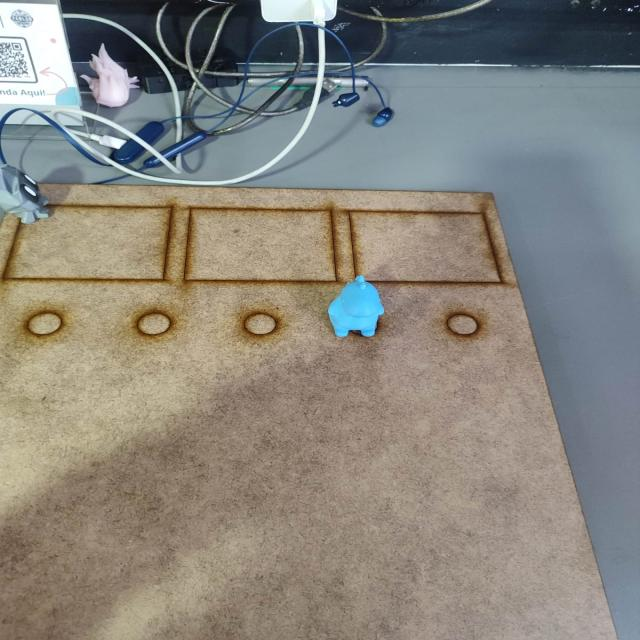DINO: (324, 267, 396, 341)
